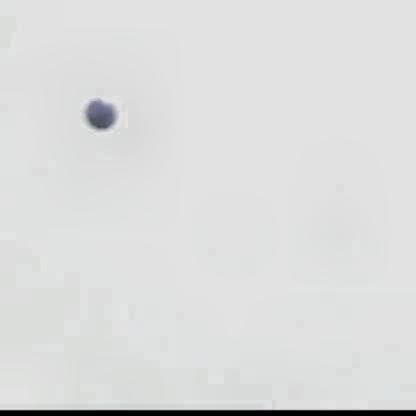golfball: (83, 96, 114, 127)
